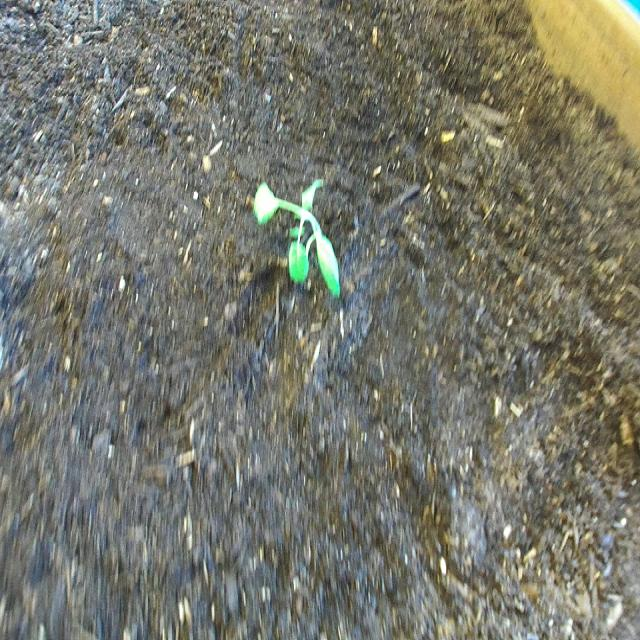Healthy: (250, 165, 346, 308)
